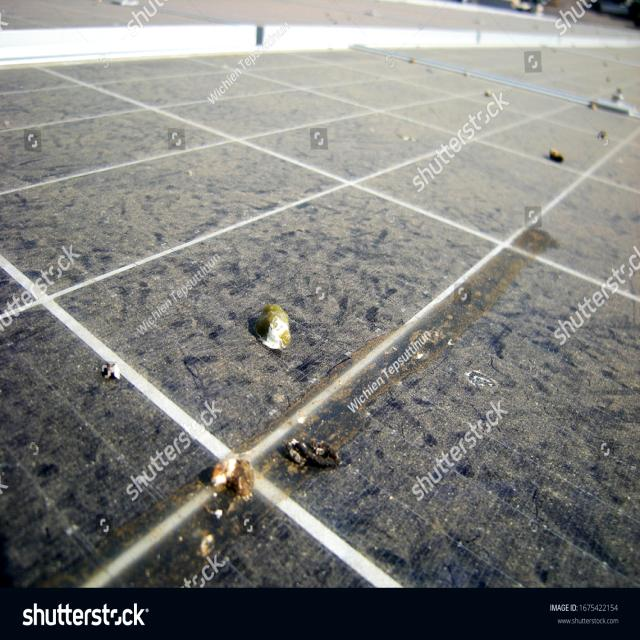bird: (274, 406, 354, 478), (204, 426, 260, 516), (246, 281, 296, 356), (83, 356, 135, 394), (540, 129, 574, 176)
